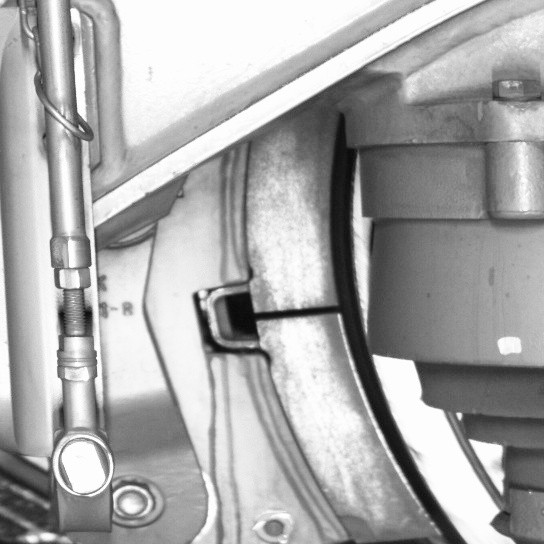KnifeSwitch: (257, 142, 466, 542)
